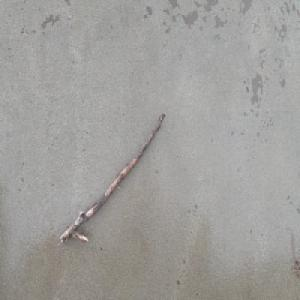Wood: (59, 110, 167, 246)
